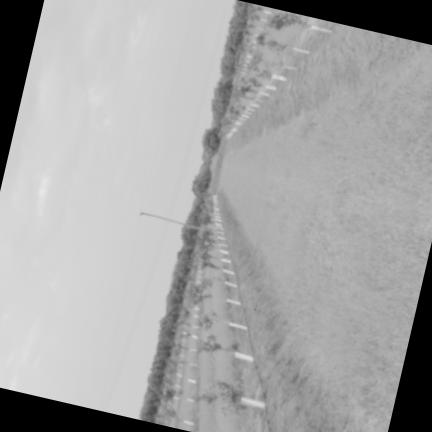Shahed: (254, 301, 259, 313)
